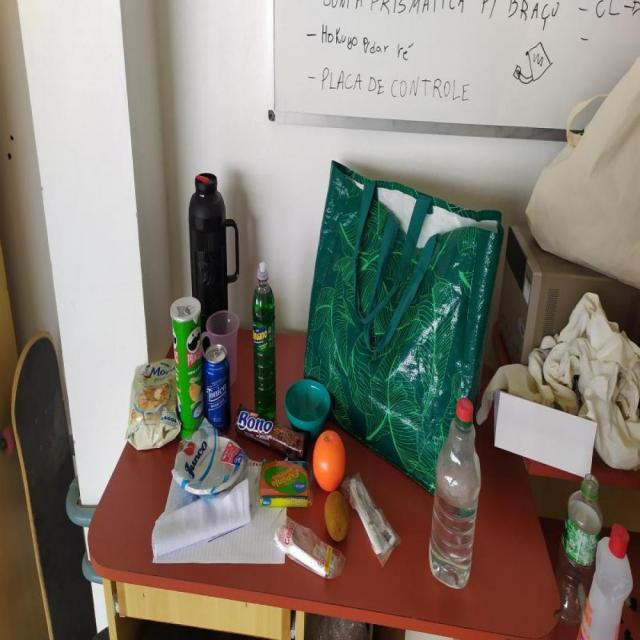Bag: (302, 154, 505, 500), (528, 54, 640, 300)
Bowl: (284, 379, 331, 432)
Cleaner: (252, 262, 277, 422)
Cookies: (236, 404, 304, 462)
CornFlakes: (127, 356, 179, 452)
Kiwi: (326, 492, 349, 541)
Mug: (201, 306, 241, 388)
Orange: (314, 432, 346, 491)
Plate: (172, 434, 242, 493)
Pringles: (172, 295, 207, 448)
Sponge: (256, 456, 312, 511)
Tonic: (204, 346, 231, 434)
